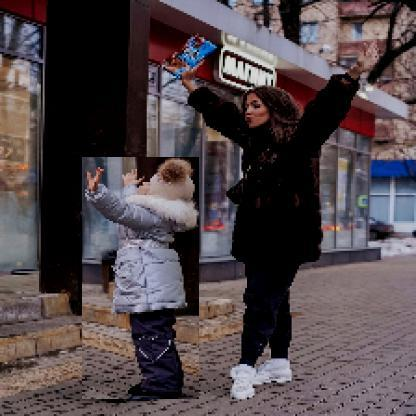child: (83, 158, 201, 401)
